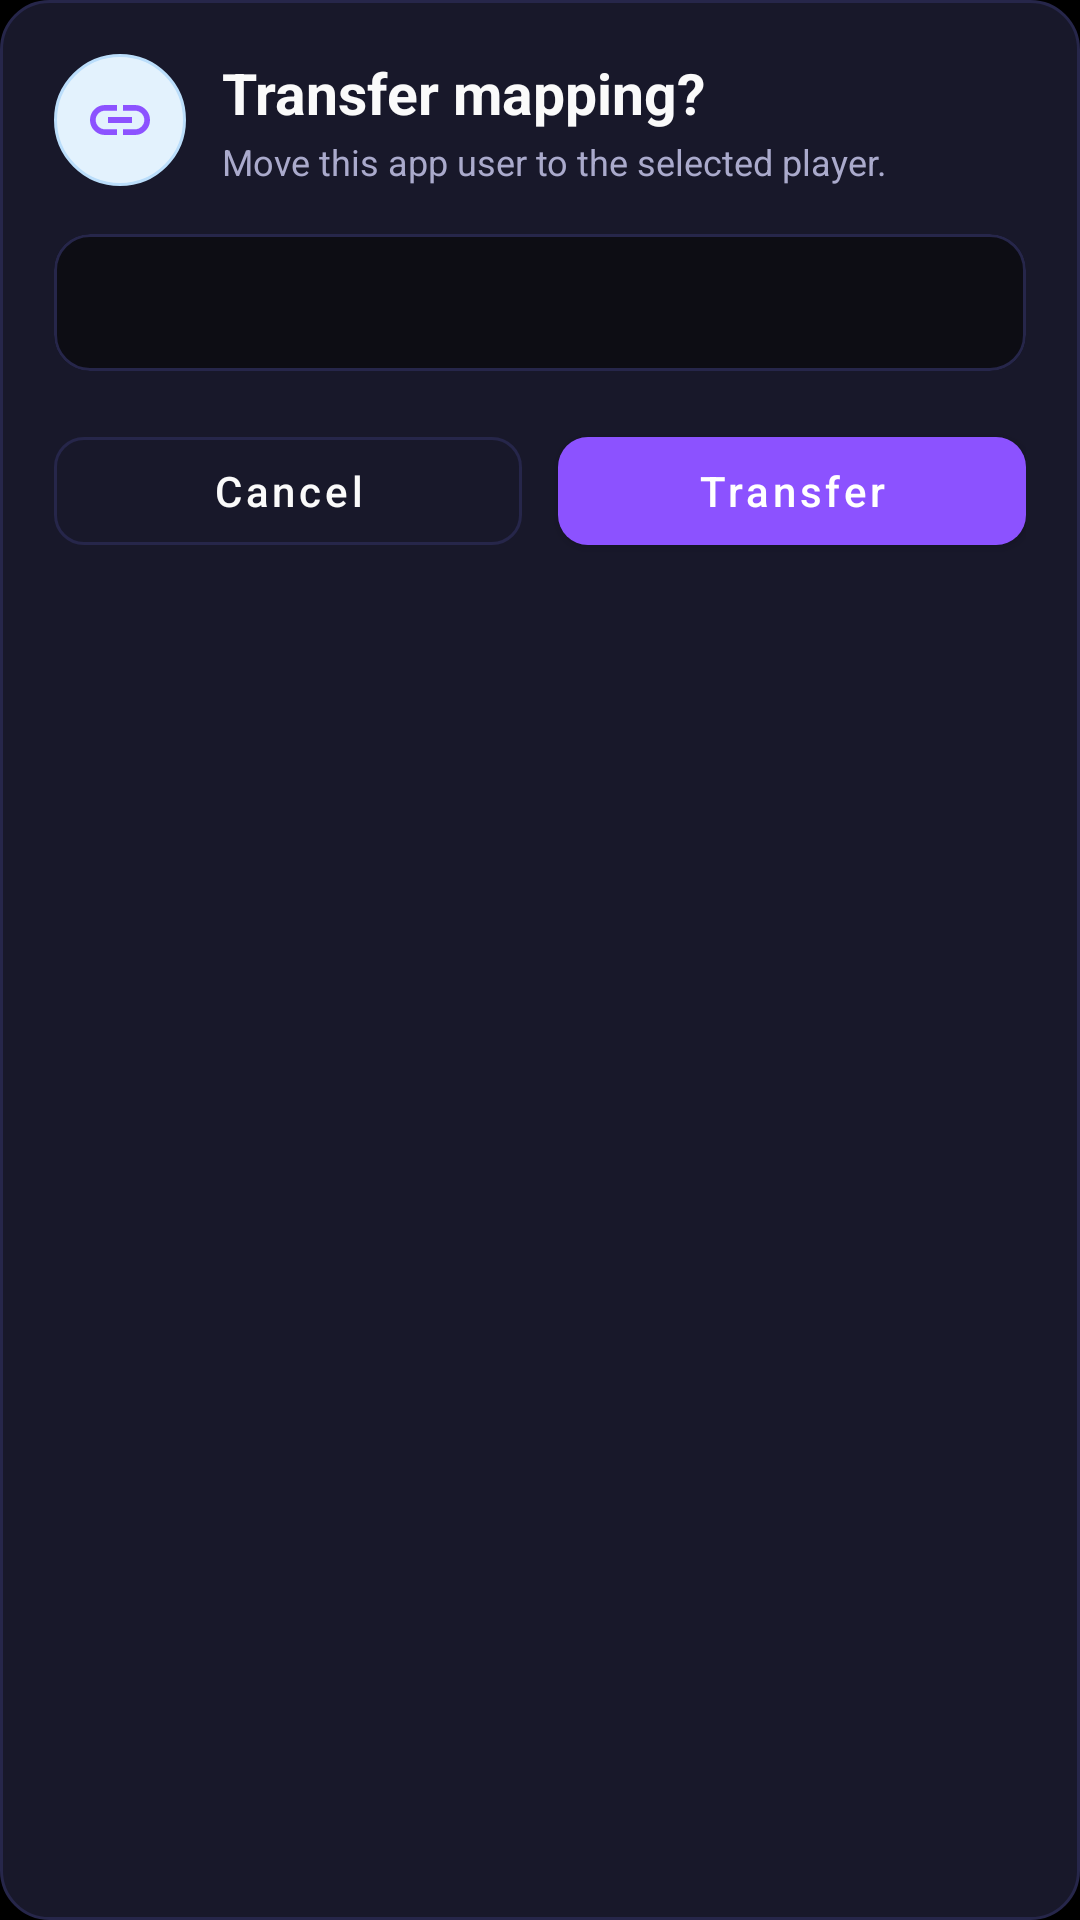

Locate icon controls on the screen. Image size 1080×1920, boxes as (x1, y1, x2, y2).
link players: (54, 54, 186, 186)
